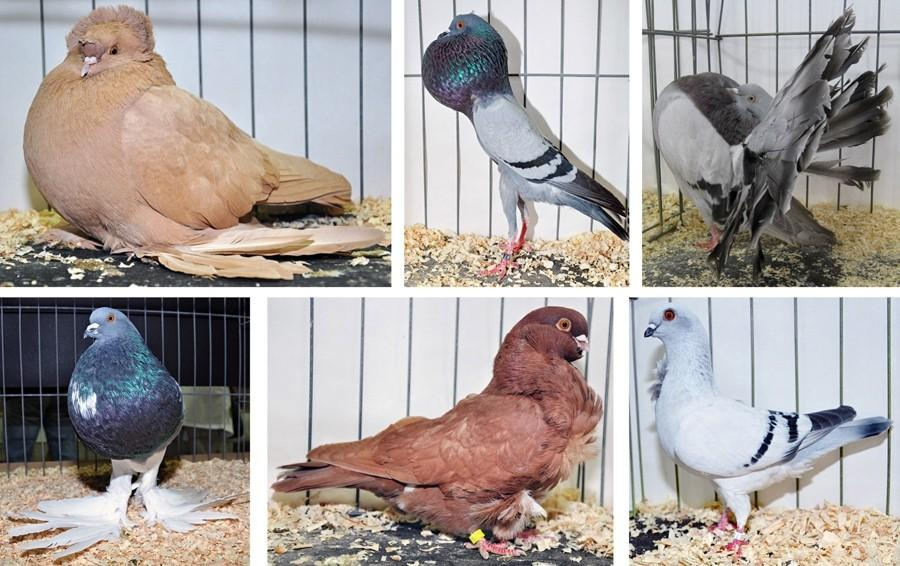Flying Rat: (28, 10, 366, 257), (277, 304, 584, 556), (646, 303, 877, 562), (417, 10, 617, 275), (642, 47, 880, 261), (18, 306, 223, 547)
